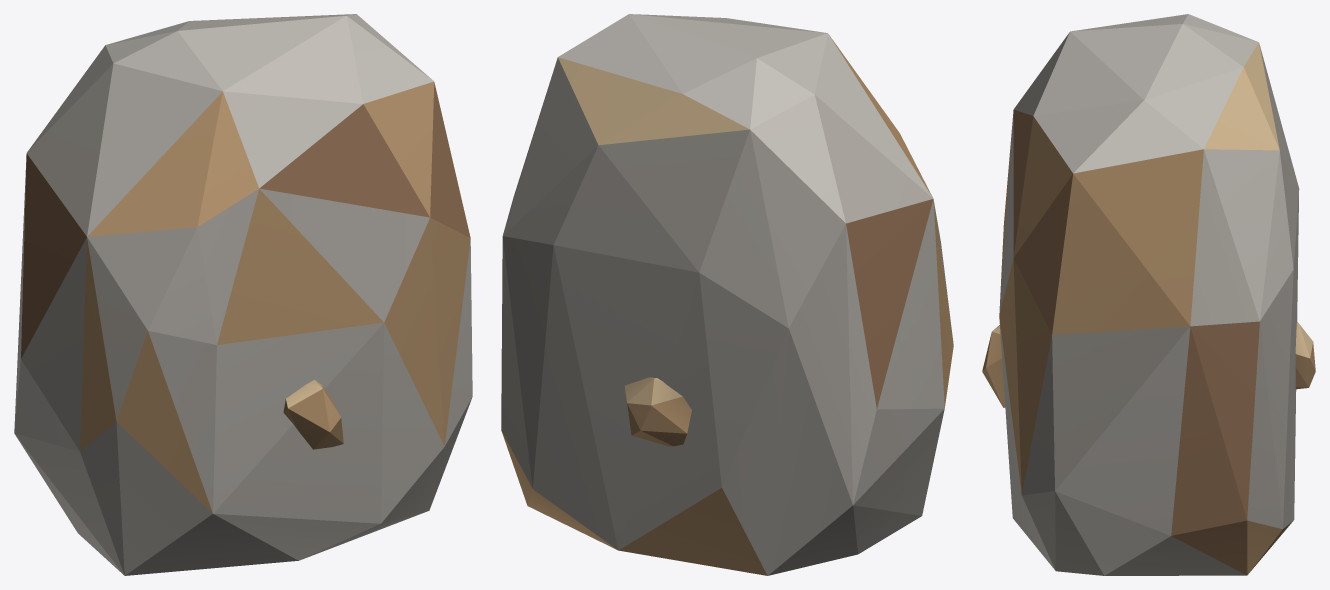
File: quarry_rock_b_low.glb
3 renders of one model, left to right at view 1: azimuth 30°, elevation 25°; view 2: azimuth 150°, elevation 25°; view 3: azimuth 270°, elevation 25°, orthographic. The views are drawn at different scales.
Bounding box in the file's own units: 1.3 × 1.54 × 1.01.
